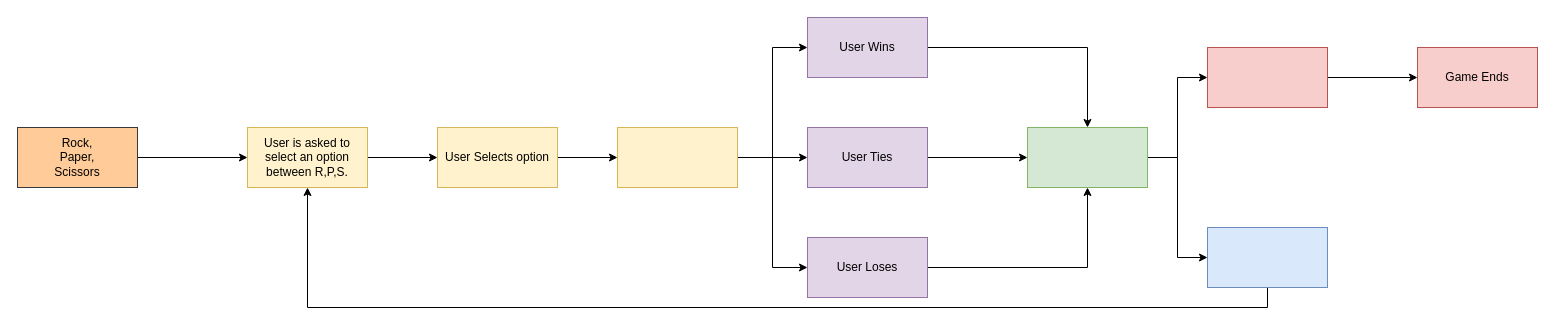
The diagram is 1555 pixels wide and 333 high, and some of its shapes have lost their labels. The centre of each missing label's shape, as x and y in pixels:
"Computer selects option at random" goes at (677,157).
"No" goes at (1267,77).
"User asked to play again" goes at (1087,157).
"Yes" goes at (1267,257).
